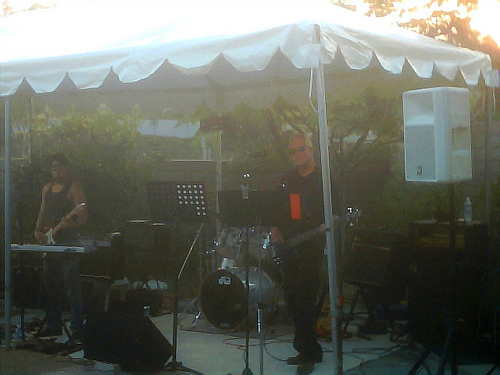without_mask: (287, 136, 318, 173), (48, 156, 70, 186)
